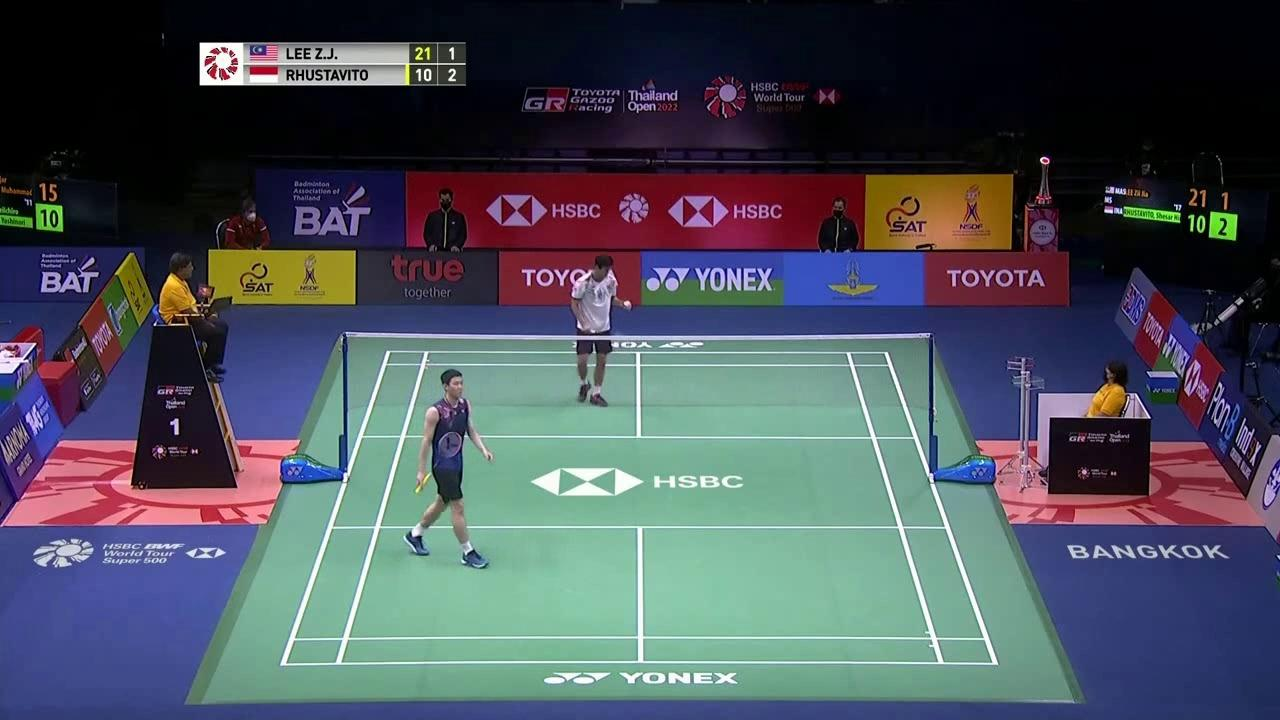racket: (416, 431, 461, 493), (587, 327, 637, 342)
shuttle: (624, 300, 631, 308)
